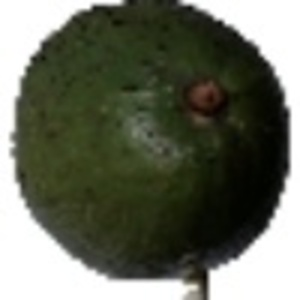abacate: (8, 2, 292, 281)
